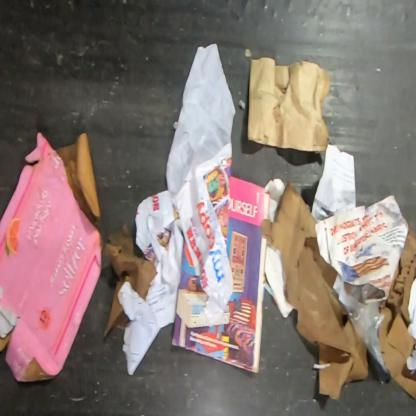cardboard: (0, 129, 103, 384), (260, 178, 370, 402), (171, 175, 271, 374), (247, 56, 330, 152), (102, 220, 158, 339), (378, 228, 415, 401), (53, 131, 102, 224)
soft_plastic: (175, 174, 234, 328), (333, 274, 390, 376)
